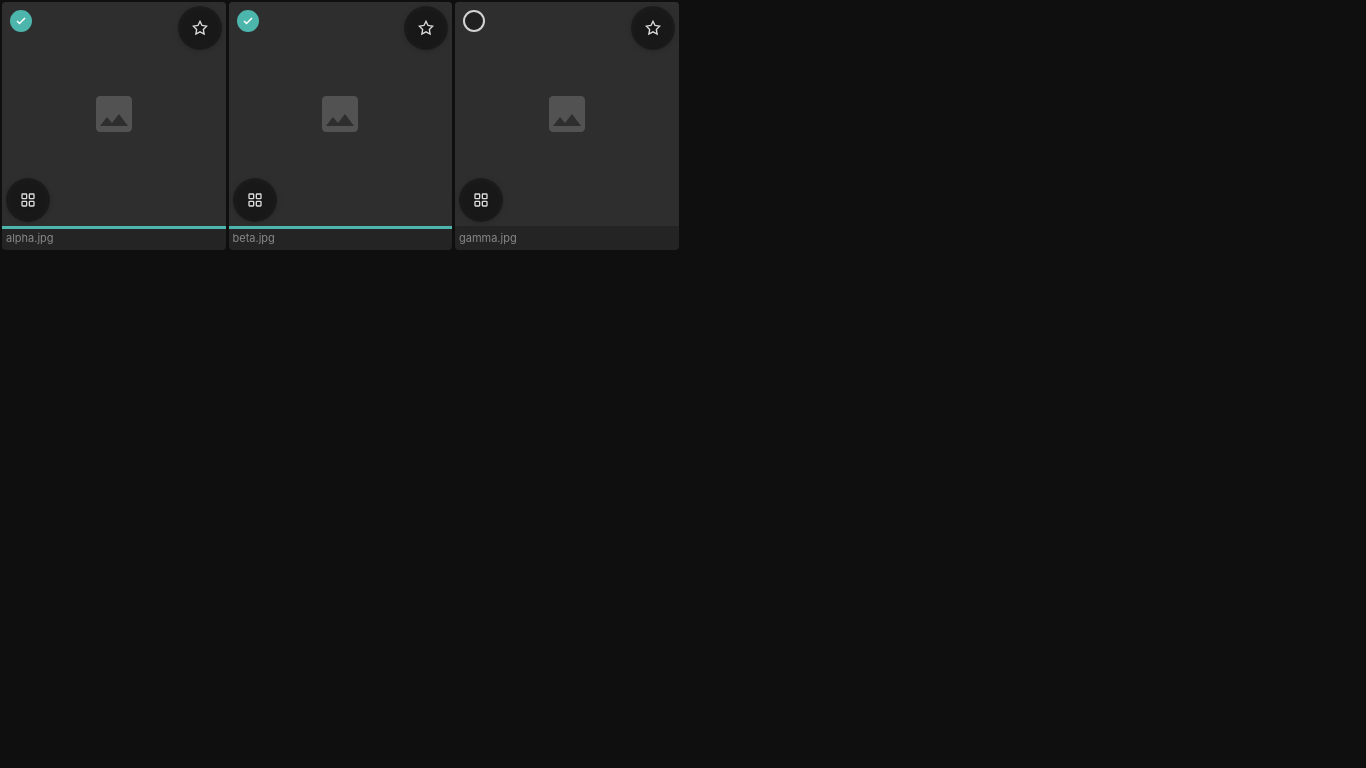
Scenario: Gallery — multi-select collections panel › opens CollectionsPanel with all selected paths when clicking the collection icon while in selection mode
Click the 1st button with class "collections-btn" at {"x": 28, "y": 200}, box [6, 178, 50, 222]
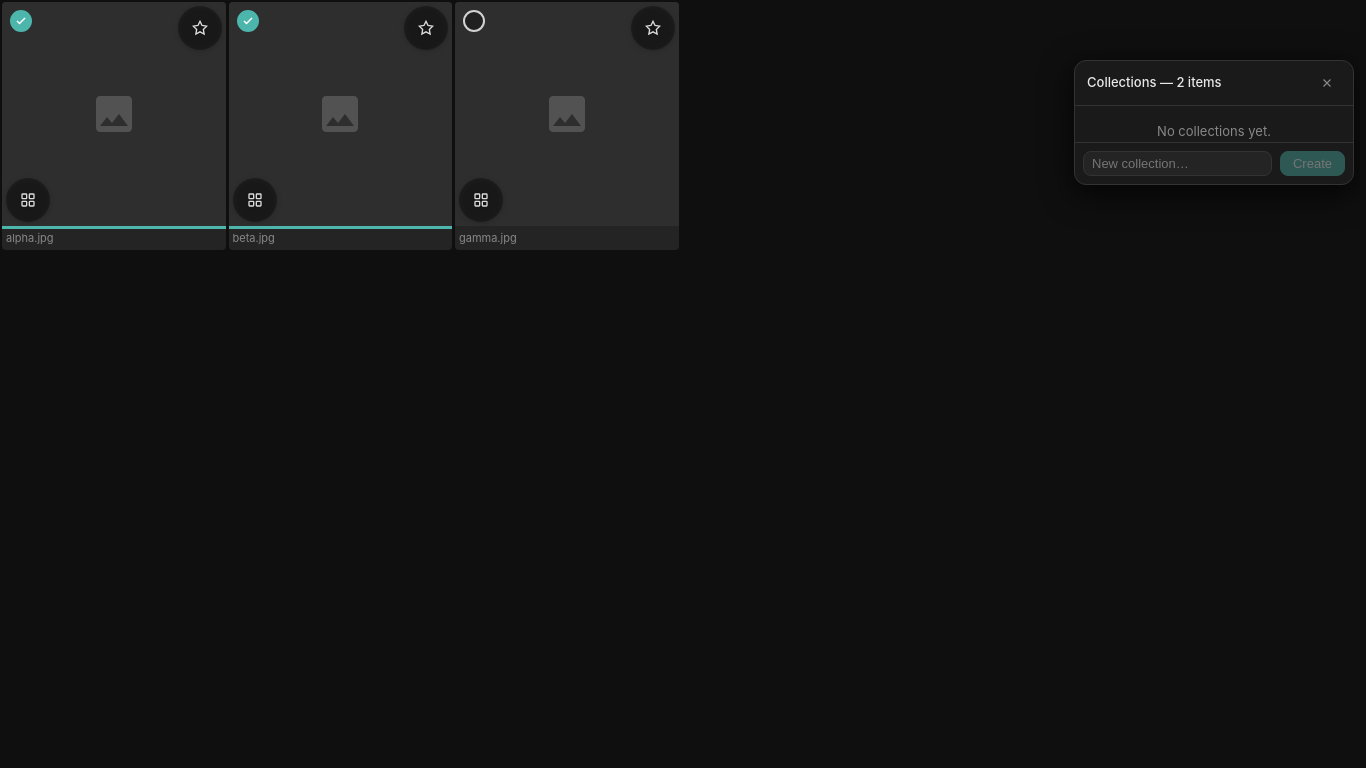
Expected: the dialog is shown, [1074, 60, 1354, 184]
Expected: the dialog shows "2", [1087, 74, 1222, 90]
